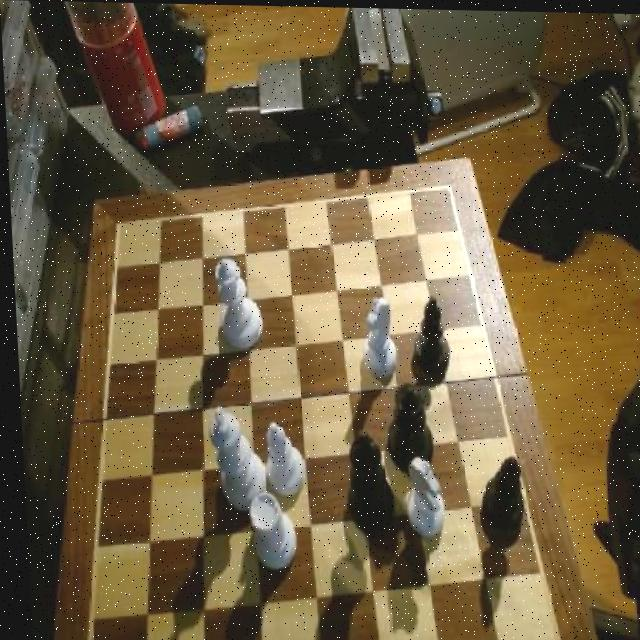bishop: (475, 453, 525, 541), (409, 292, 451, 380)
black-bishop: (339, 427, 393, 539)
black-pawn: (380, 379, 429, 472)
black-rook: (255, 420, 303, 500)
white-bishop: (201, 403, 263, 511)
white-king: (397, 453, 444, 537), (356, 292, 399, 380)
white-pawn: (210, 256, 263, 351)
white-queen: (241, 490, 295, 575)
